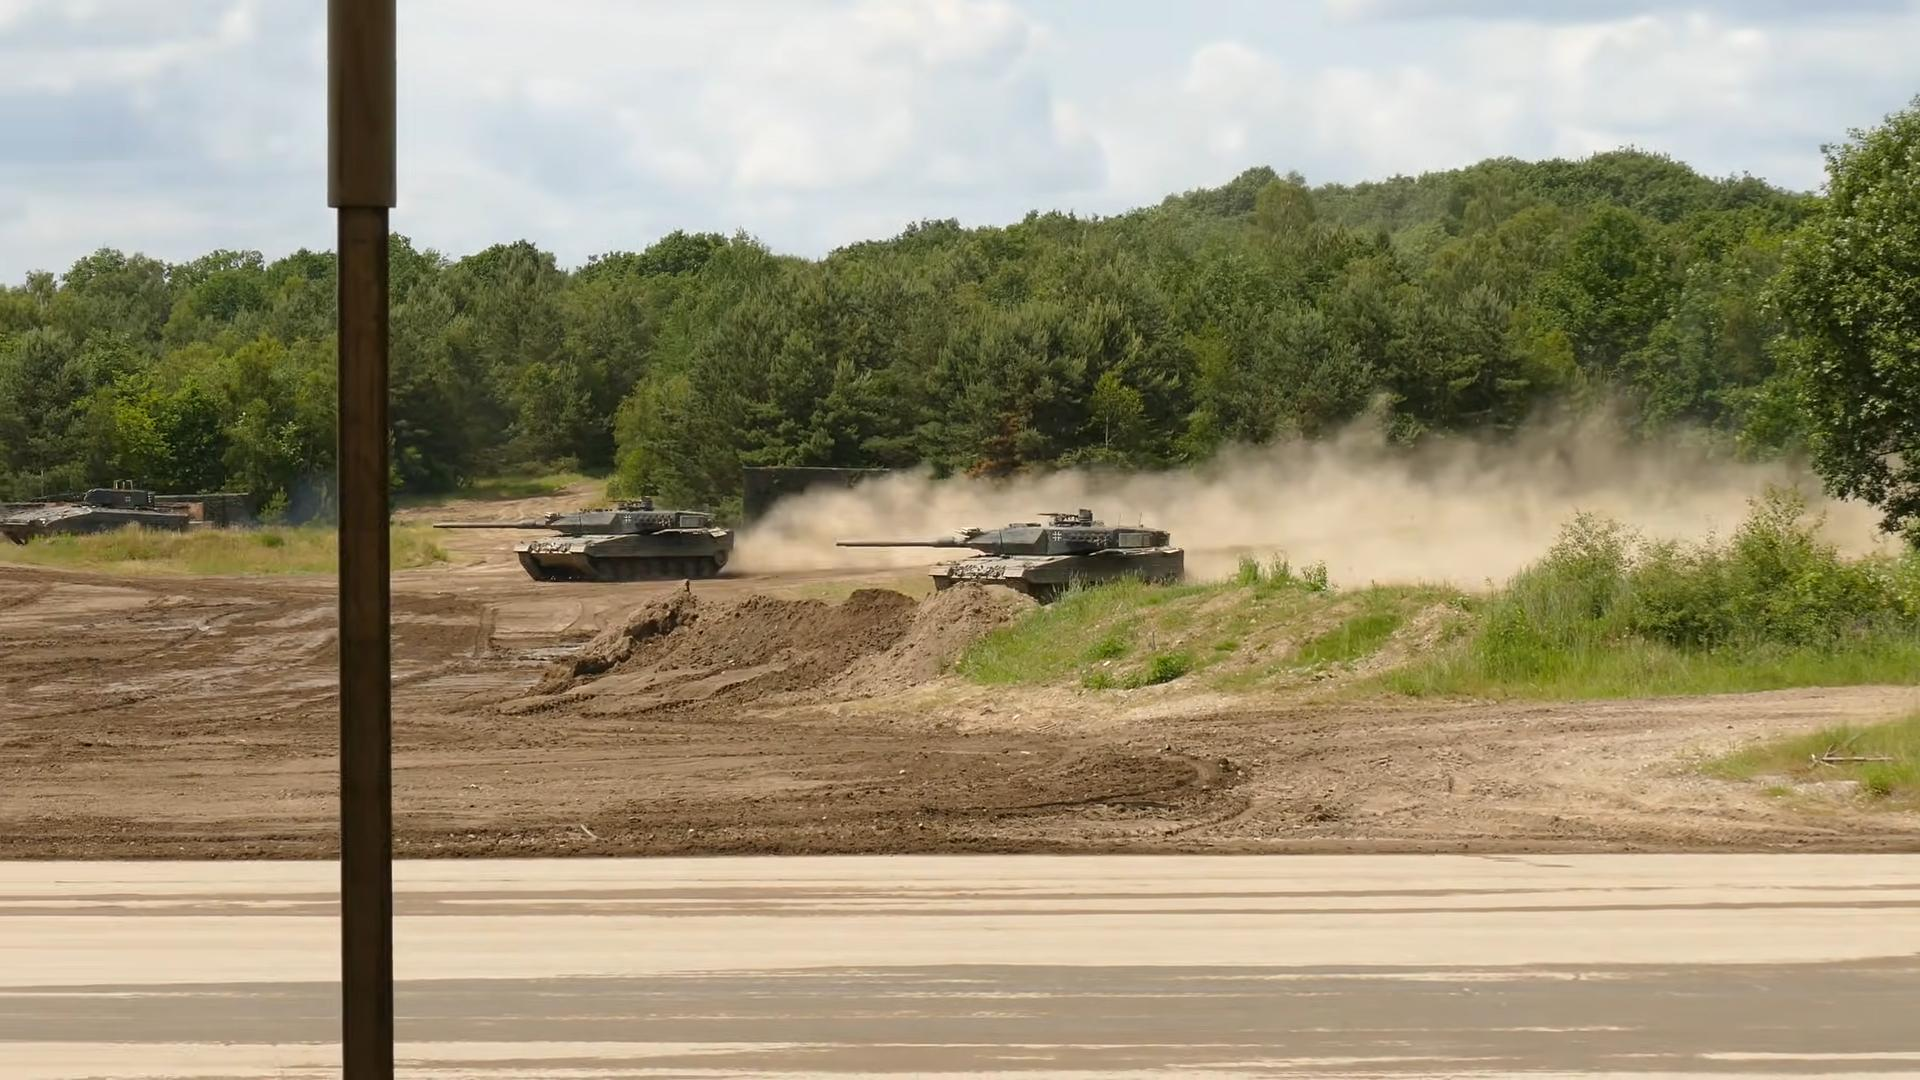tank: (836, 508, 1187, 607), (431, 495, 735, 582), (1, 479, 187, 547)
